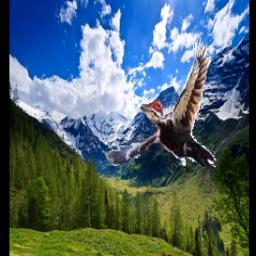Woodpecker: (107, 35, 217, 168)
